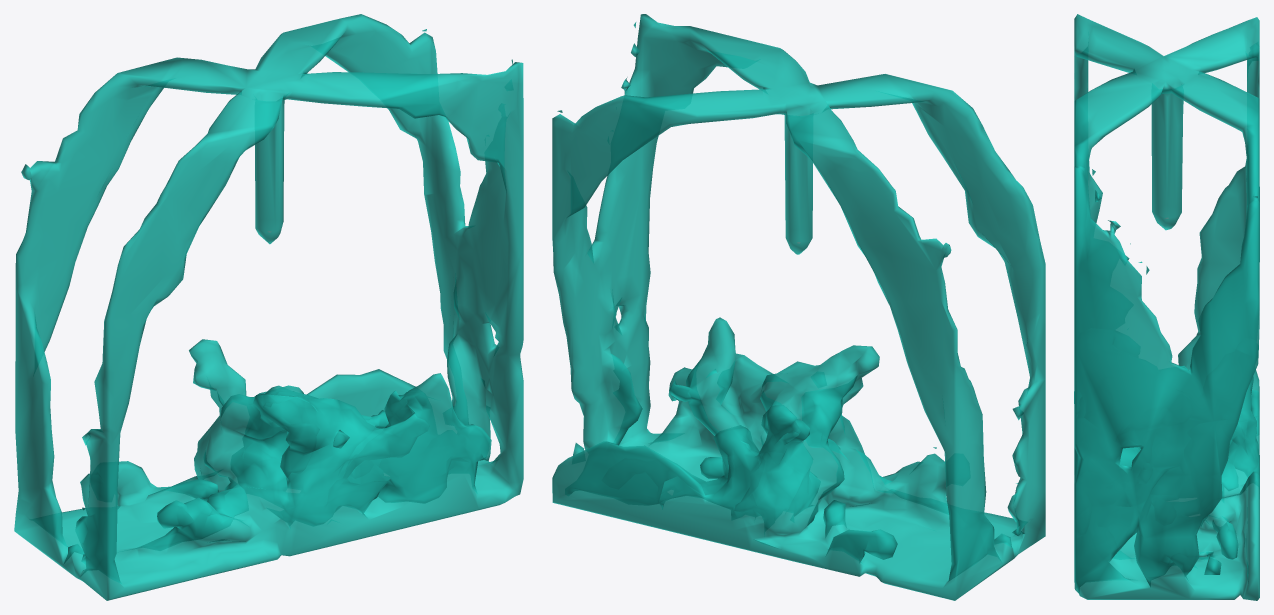
3 views of the same model, side by side, from view 1: azimuth 30°, elevation 25°; view 2: azimuth 150°, elevation 25°; view 3: azimuth 270°, elevation 25° (orthographic). The views are drawn at different scales.
Visible parts, largest first — view 1: Liquid_Domain; view 2: Liquid_Domain; view 3: Liquid_Domain.
Boxes of the visible parts, x1,y1,x2,y2 form: Liquid_Domain: (14,14,523,600); Liquid_Domain: (552,14,1045,600); Liquid_Domain: (1074,14,1259,600).
Bounding box in the file's own units: 884 × 885 × 345.
